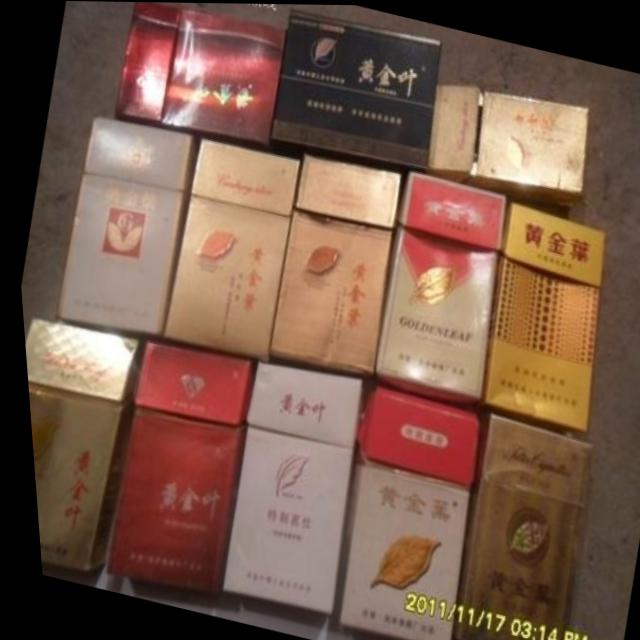box: (97, 339, 249, 596), (326, 383, 474, 640), (212, 359, 357, 616), (443, 413, 585, 640), (368, 168, 503, 404), (51, 116, 196, 334), (157, 136, 297, 360), (263, 152, 399, 379), (20, 318, 139, 570), (474, 201, 601, 433), (268, 9, 439, 165), (113, 2, 284, 144), (424, 80, 586, 207)
